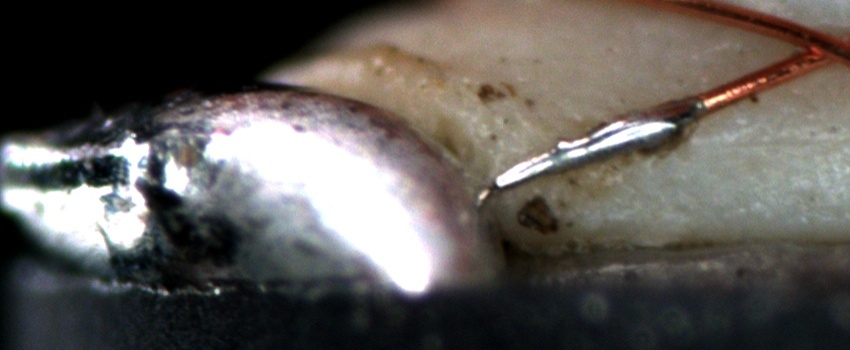CL: (776, 21, 847, 74)
DL: (684, 110, 850, 167)
TS: (494, 99, 698, 189)
TTCW: (486, 88, 741, 195)
